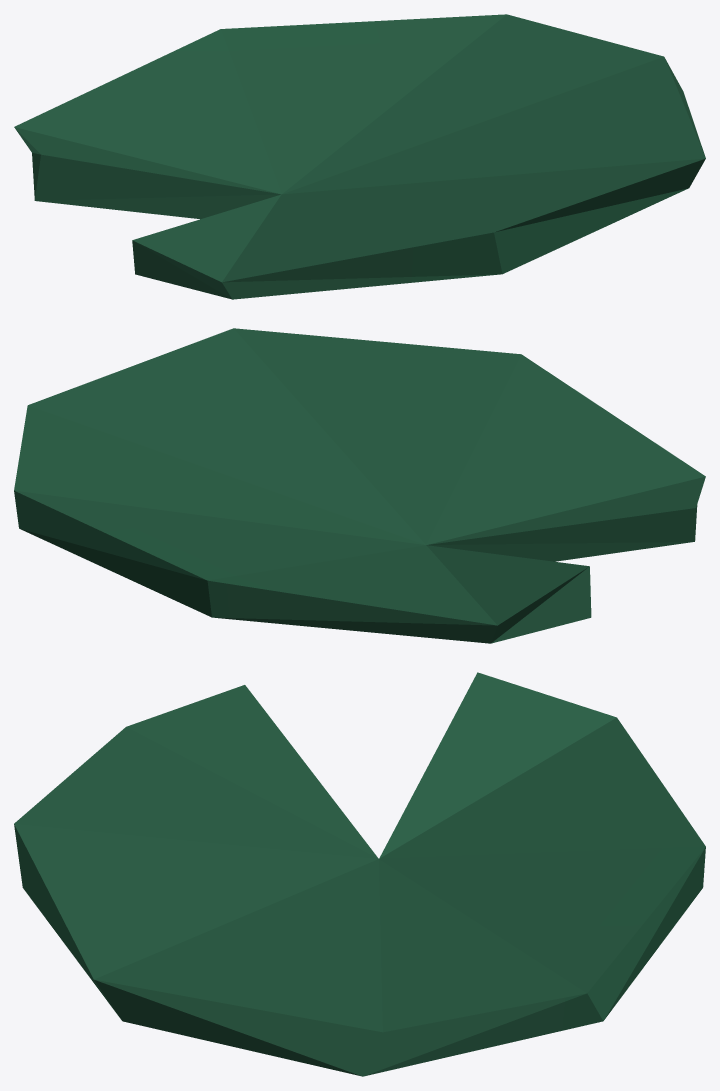
File: TreePackage.fbx_Lily.fbx
3 views of the same model, one above another, from view 1: azimuth 30°, elevation 25°; view 2: azimuth 150°, elevation 25°; view 3: azimuth 270°, elevation 25° (orthographic). The views are drawn at different scales.
Parts seen in each view (by area): view 1: LiLy; view 2: LiLy; view 3: LiLy.
Part boxes in pixels (box(x1,y1,x2,y2)): LiLy: box(14, 14, 705, 299); LiLy: box(14, 328, 705, 643); LiLy: box(14, 672, 705, 1076).
Bounding box in the file's own units: 122 × 17.97 × 102.
